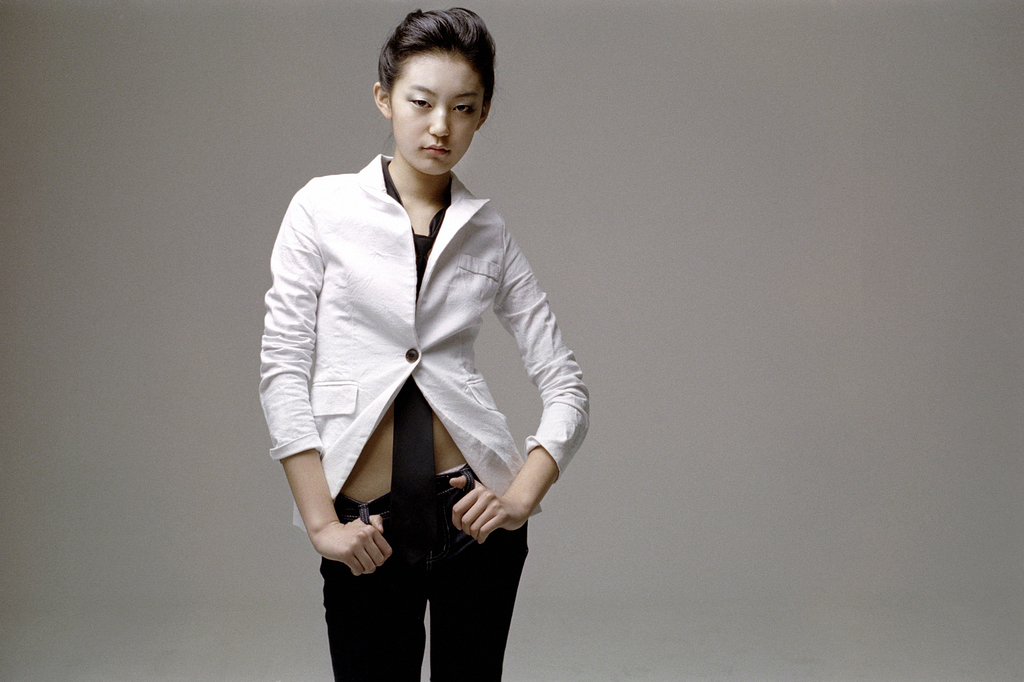Person: (258, 5, 589, 682)
